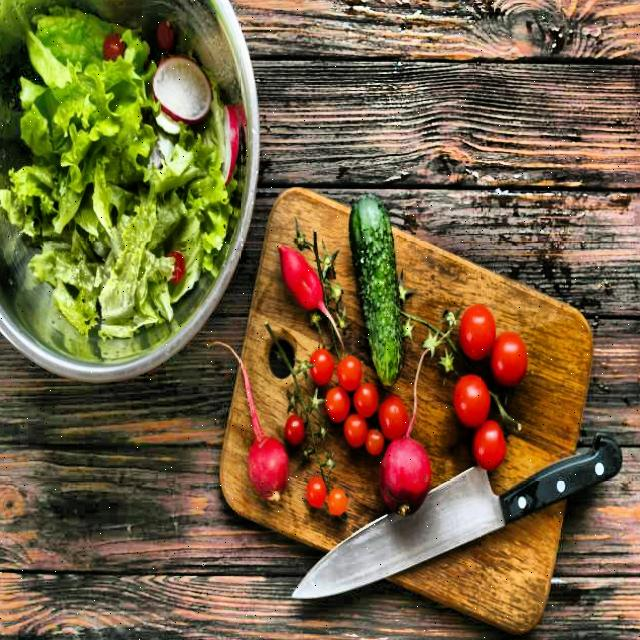knife: (284, 420, 625, 616)
